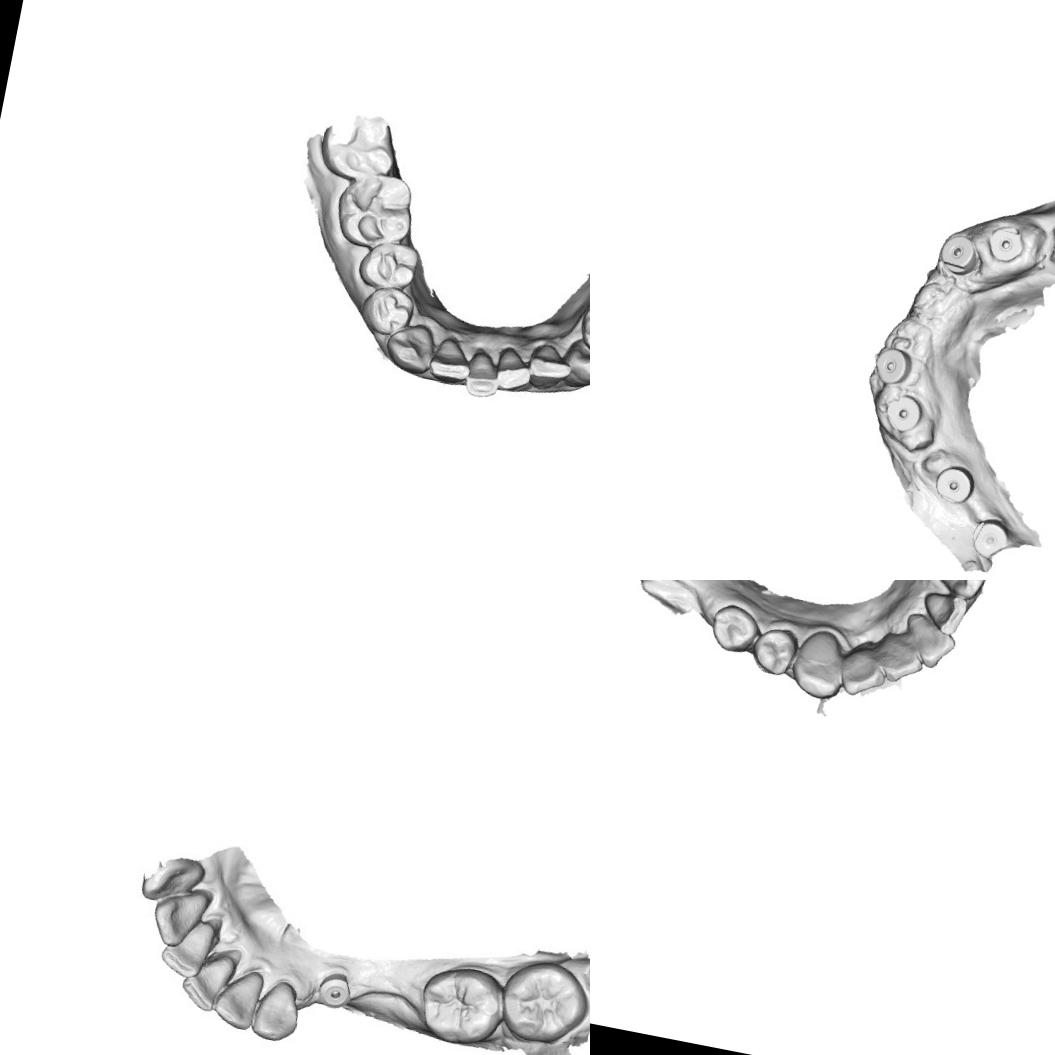canine: (786, 625, 850, 702), (250, 975, 304, 1046), (380, 318, 438, 378), (556, 335, 590, 394), (927, 580, 989, 601)
implant: (936, 230, 984, 278), (930, 460, 978, 508), (967, 514, 1013, 562), (983, 220, 1028, 266), (882, 390, 926, 436), (871, 343, 914, 388), (314, 970, 358, 1008)
incisor: (154, 911, 218, 984), (178, 944, 238, 1012), (207, 962, 265, 1032), (898, 610, 959, 672), (834, 642, 890, 700), (872, 629, 928, 687), (146, 888, 200, 946), (523, 339, 574, 394), (426, 335, 476, 387), (917, 589, 968, 637), (491, 344, 535, 396), (461, 348, 504, 400)
molar: (488, 951, 590, 1054), (414, 959, 506, 1050), (330, 166, 420, 255), (314, 104, 404, 188)
premolar: (355, 235, 420, 295), (356, 279, 417, 340), (707, 600, 761, 656), (747, 623, 800, 678), (575, 299, 590, 358)
